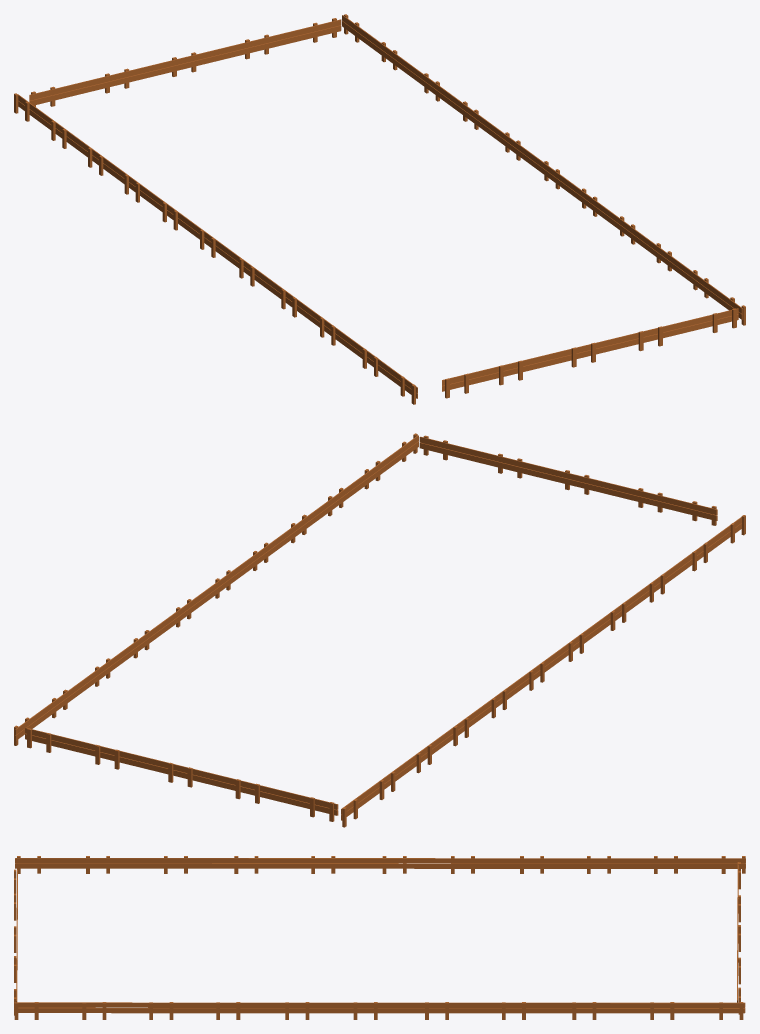
The model's file is fences.glb.
3 renders of one model, top to bottom at view 1: azimuth 30°, elevation 25°; view 2: azimuth 150°, elevation 25°; view 3: azimuth 270°, elevation 25°, orthographic. The views are drawn at different scales.
Visible parts, largest first — view 1: Cube.014, Cube.015, Cube.016, Cube.017; view 2: Cube.014, Cube.015, Cube.016, Cube.017; view 3: Cube.015, Cube.014, Cube.016, Cube.017.
Part boxes in pixels (x1=…): Cube.014: x1=14, y1=93, x2=417, y2=404; Cube.015: x1=342, y1=14, x2=745, y2=325; Cube.016: x1=29, y1=18, x2=341, y2=106; Cube.017: x1=442, y1=308, x2=738, y2=398; Cube.014: x1=341, y1=515, x2=745, y2=827; Cube.015: x1=14, y1=433, x2=418, y2=745; Cube.016: x1=25, y1=727, x2=338, y2=821; Cube.017: x1=419, y1=435, x2=717, y2=525; Cube.015: x1=14, y1=1002, x2=745, y2=1019; Cube.014: x1=15, y1=856, x2=745, y2=873; Cube.016: x1=737, y1=862, x2=740, y2=1014; Cube.017: x1=14, y1=869, x2=17, y2=1015.
Bounding box in the file's own units: 37.91 × 2.01 × 79.69.
